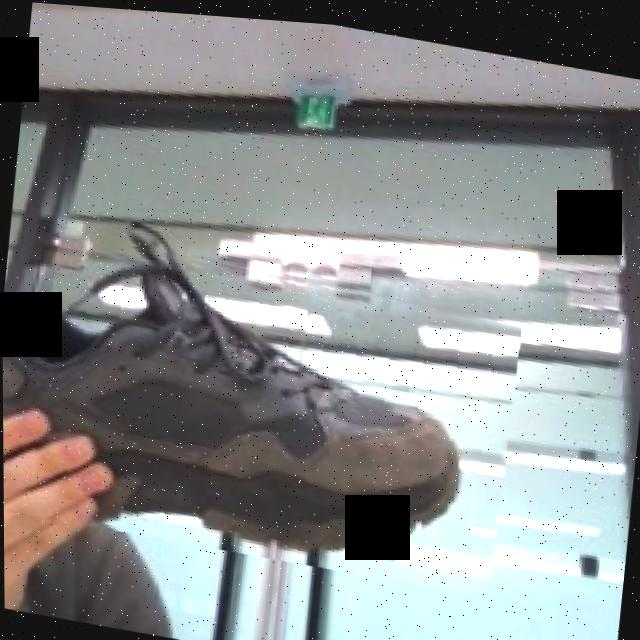shoe: (1, 219, 523, 592)
